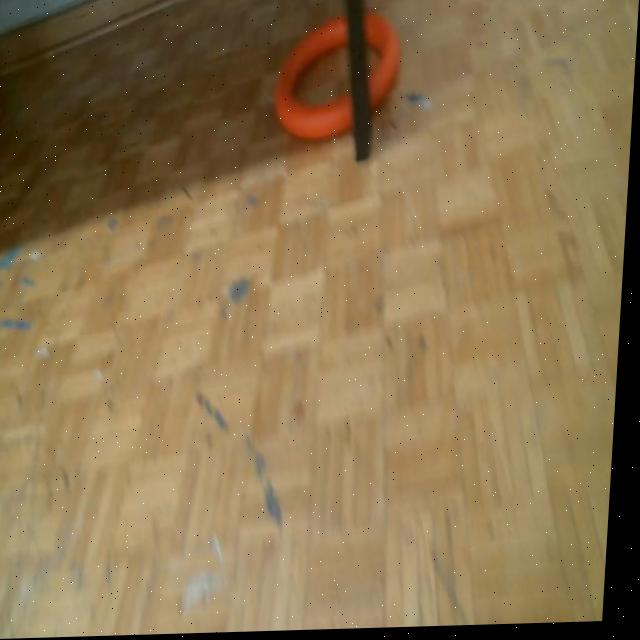note: (275, 10, 403, 143)
